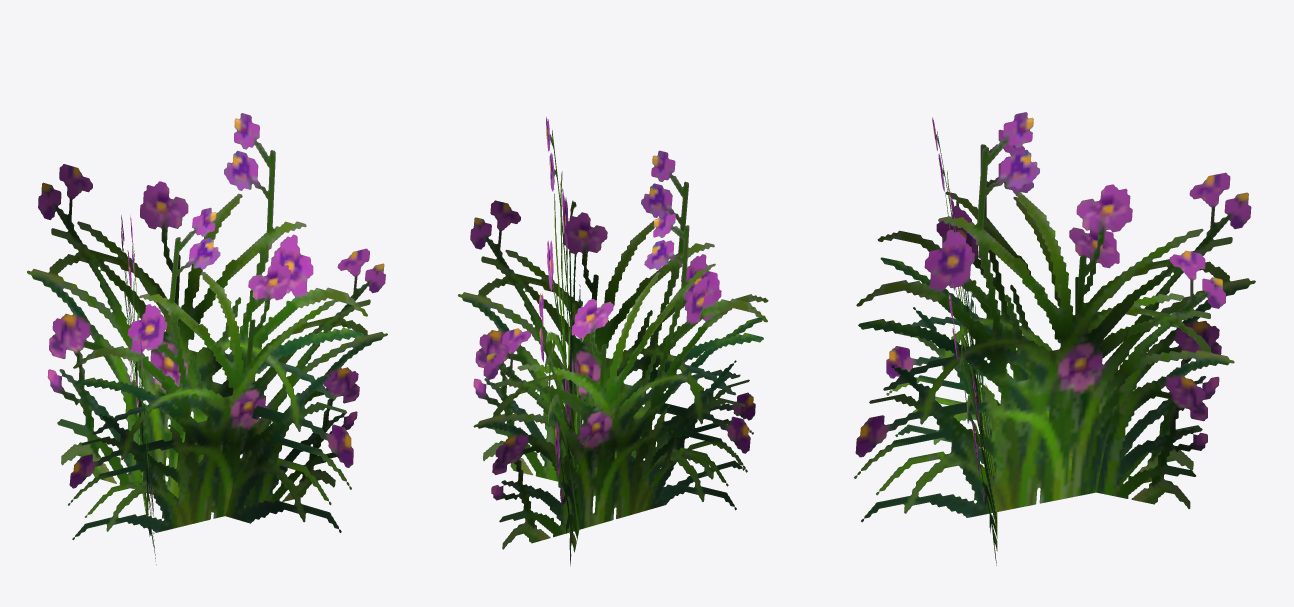
The model's file is guan_mu_009.FBX.
3 views of the same model, side by side, from view 1: azimuth 30°, elevation 25°; view 2: azimuth 150°, elevation 25°; view 3: azimuth 270°, elevation 25° (orthographic). The views are drawn at different scales.
Parts seen in each view (by area): view 1: guan_mu_009; view 2: guan_mu_009; view 3: guan_mu_009.
Part boxes in pixels (x1,y1,x2,y2): guan_mu_009: (27,113,387,564); guan_mu_009: (458,117,768,565); guan_mu_009: (854,112,1255,565).
Bounding box in the file's own units: 119 × 143 × 130.
